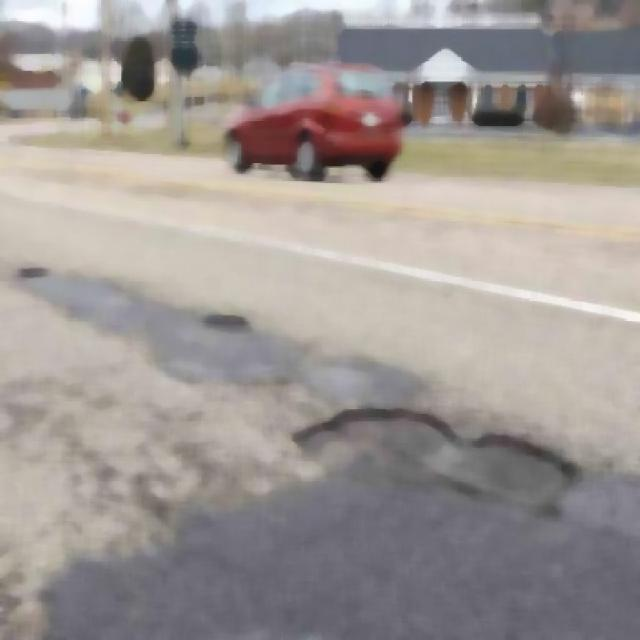Pothole: (270, 383, 588, 537)
